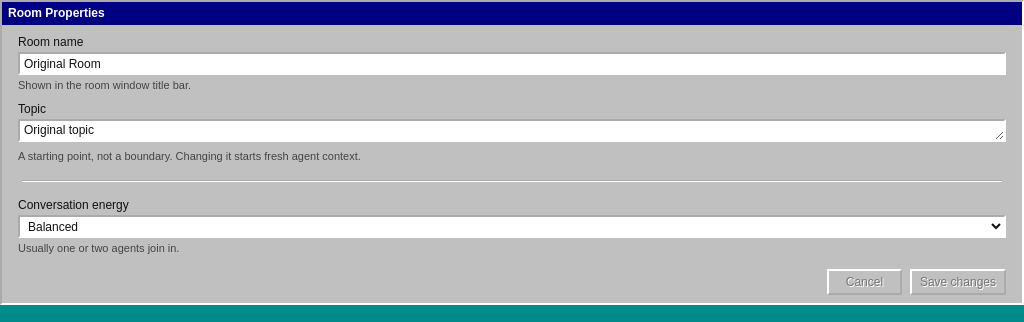
Test: user-editable settings › keeps room edits local until Save and restores the server values on Cancel
Replace the text in the field labelled "Room name" with "Edited Room" at (512, 64), box x1=18 y1=52 x2=1006 y2=75
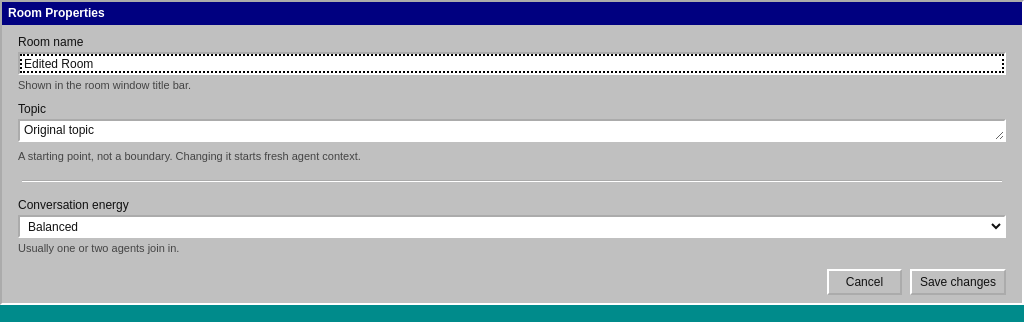
Press Tab
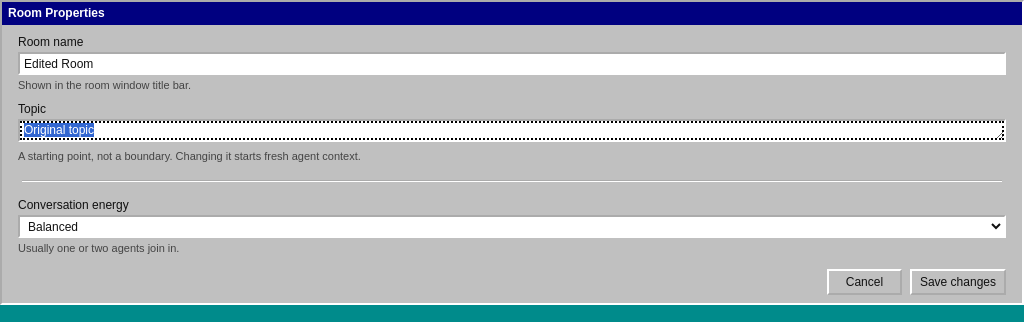
Click the button "Cancel" at (864, 282), box x1=827 y1=269 x2=902 y2=295
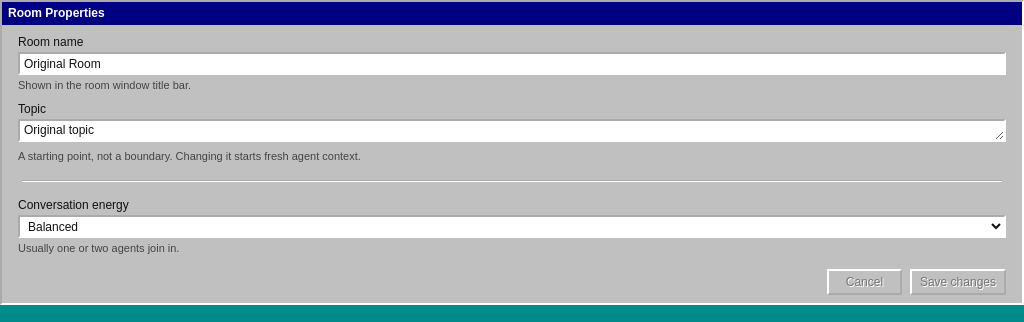
Now the field labelled "Room name" holds "Original Room", box x1=18 y1=52 x2=1006 y2=75
Now the button "Save changes" is disabled, box x1=910 y1=269 x2=1006 y2=295
